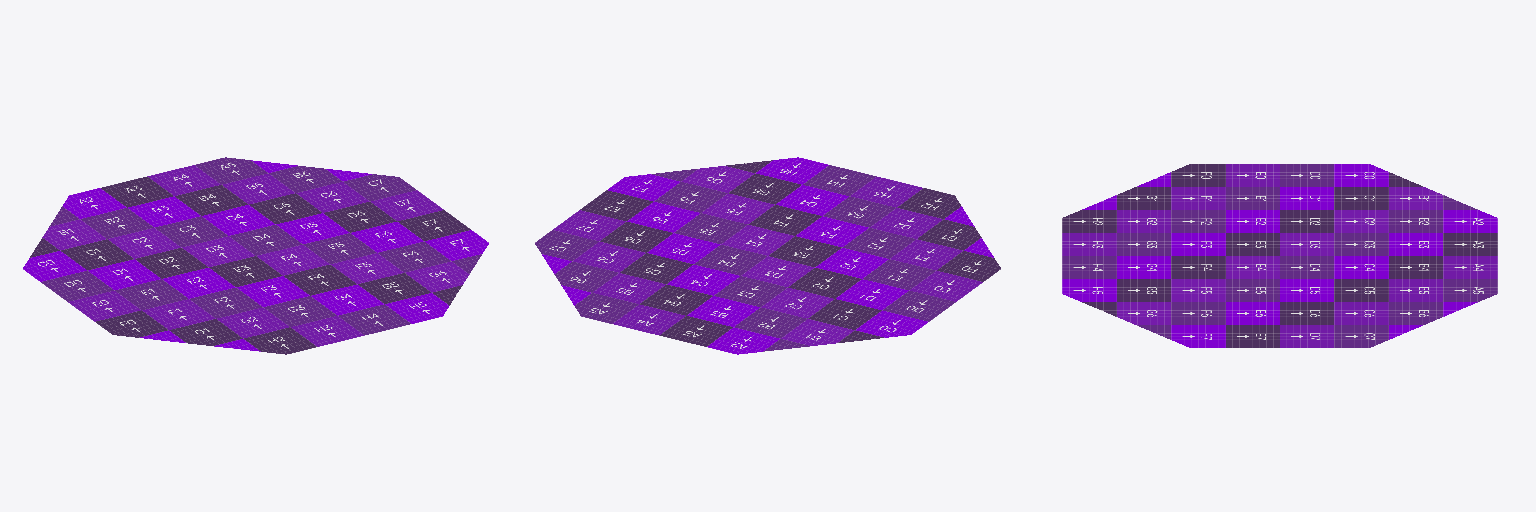
3 views of the same model, side by side, from view 1: azimuth 30°, elevation 25°; view 2: azimuth 150°, elevation 25°; view 3: azimuth 270°, elevation 25° (orthographic).
Parts seen in each view (by area): view 1: circle; view 2: circle; view 3: circle.
Part boxes in pixels (x1,y1,x2,y2): circle: (23, 157, 488, 354); circle: (535, 157, 1000, 354); circle: (1062, 164, 1497, 347).
Bounding box in the file's own units: 2 × 0 × 2.
1 materials, 1 textured.